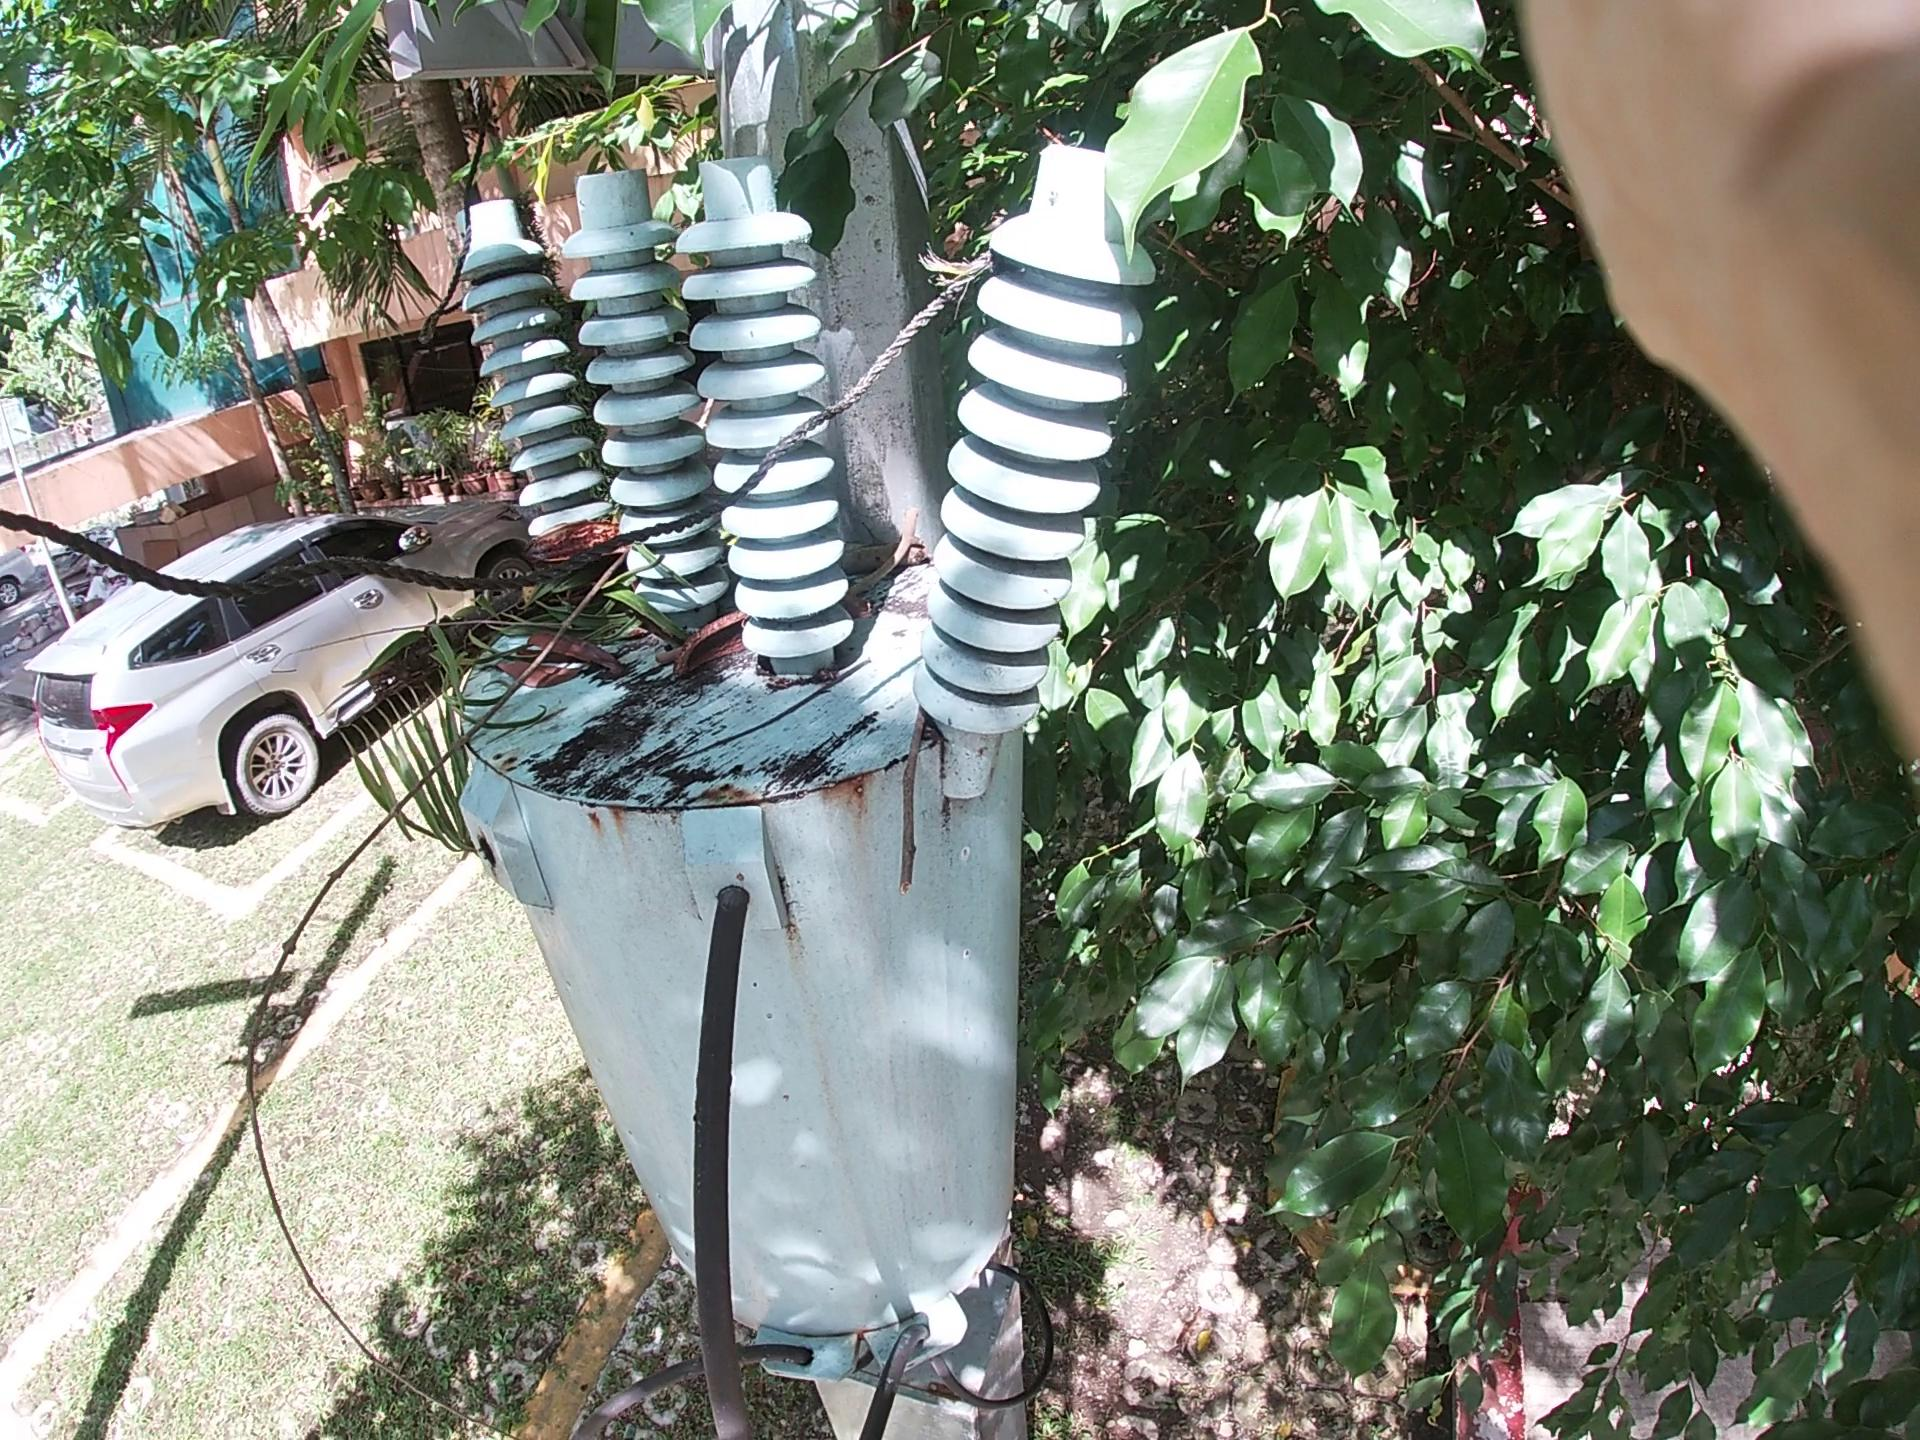branch with leaves: (408, 337, 812, 765)
leaf: (514, 620, 590, 702)
mahogany fruit: (649, 593, 779, 711), (513, 483, 633, 602)
tree branch: (252, 511, 674, 1054), (668, 475, 930, 659), (892, 729, 977, 892)
